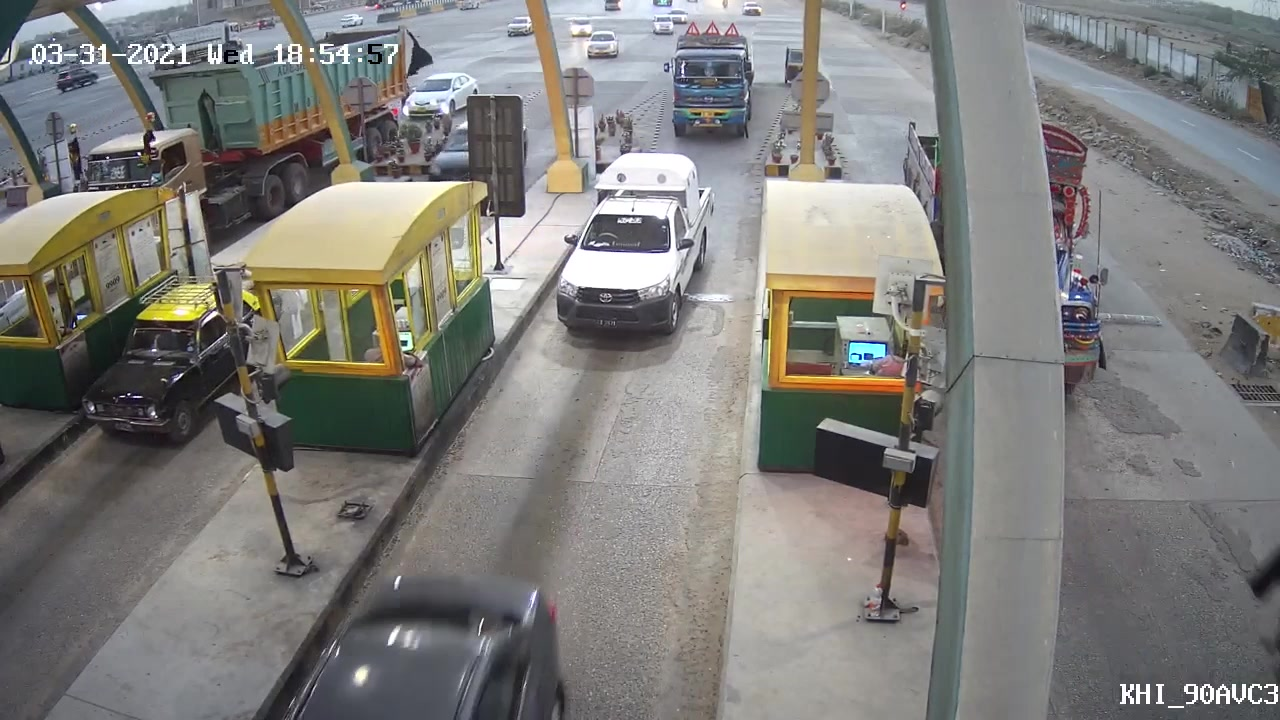F1: (541, 151, 730, 345)
